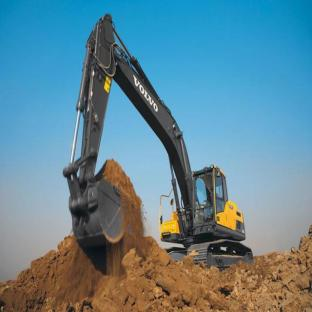ExcavationMachinery: (76, 18, 261, 273)
